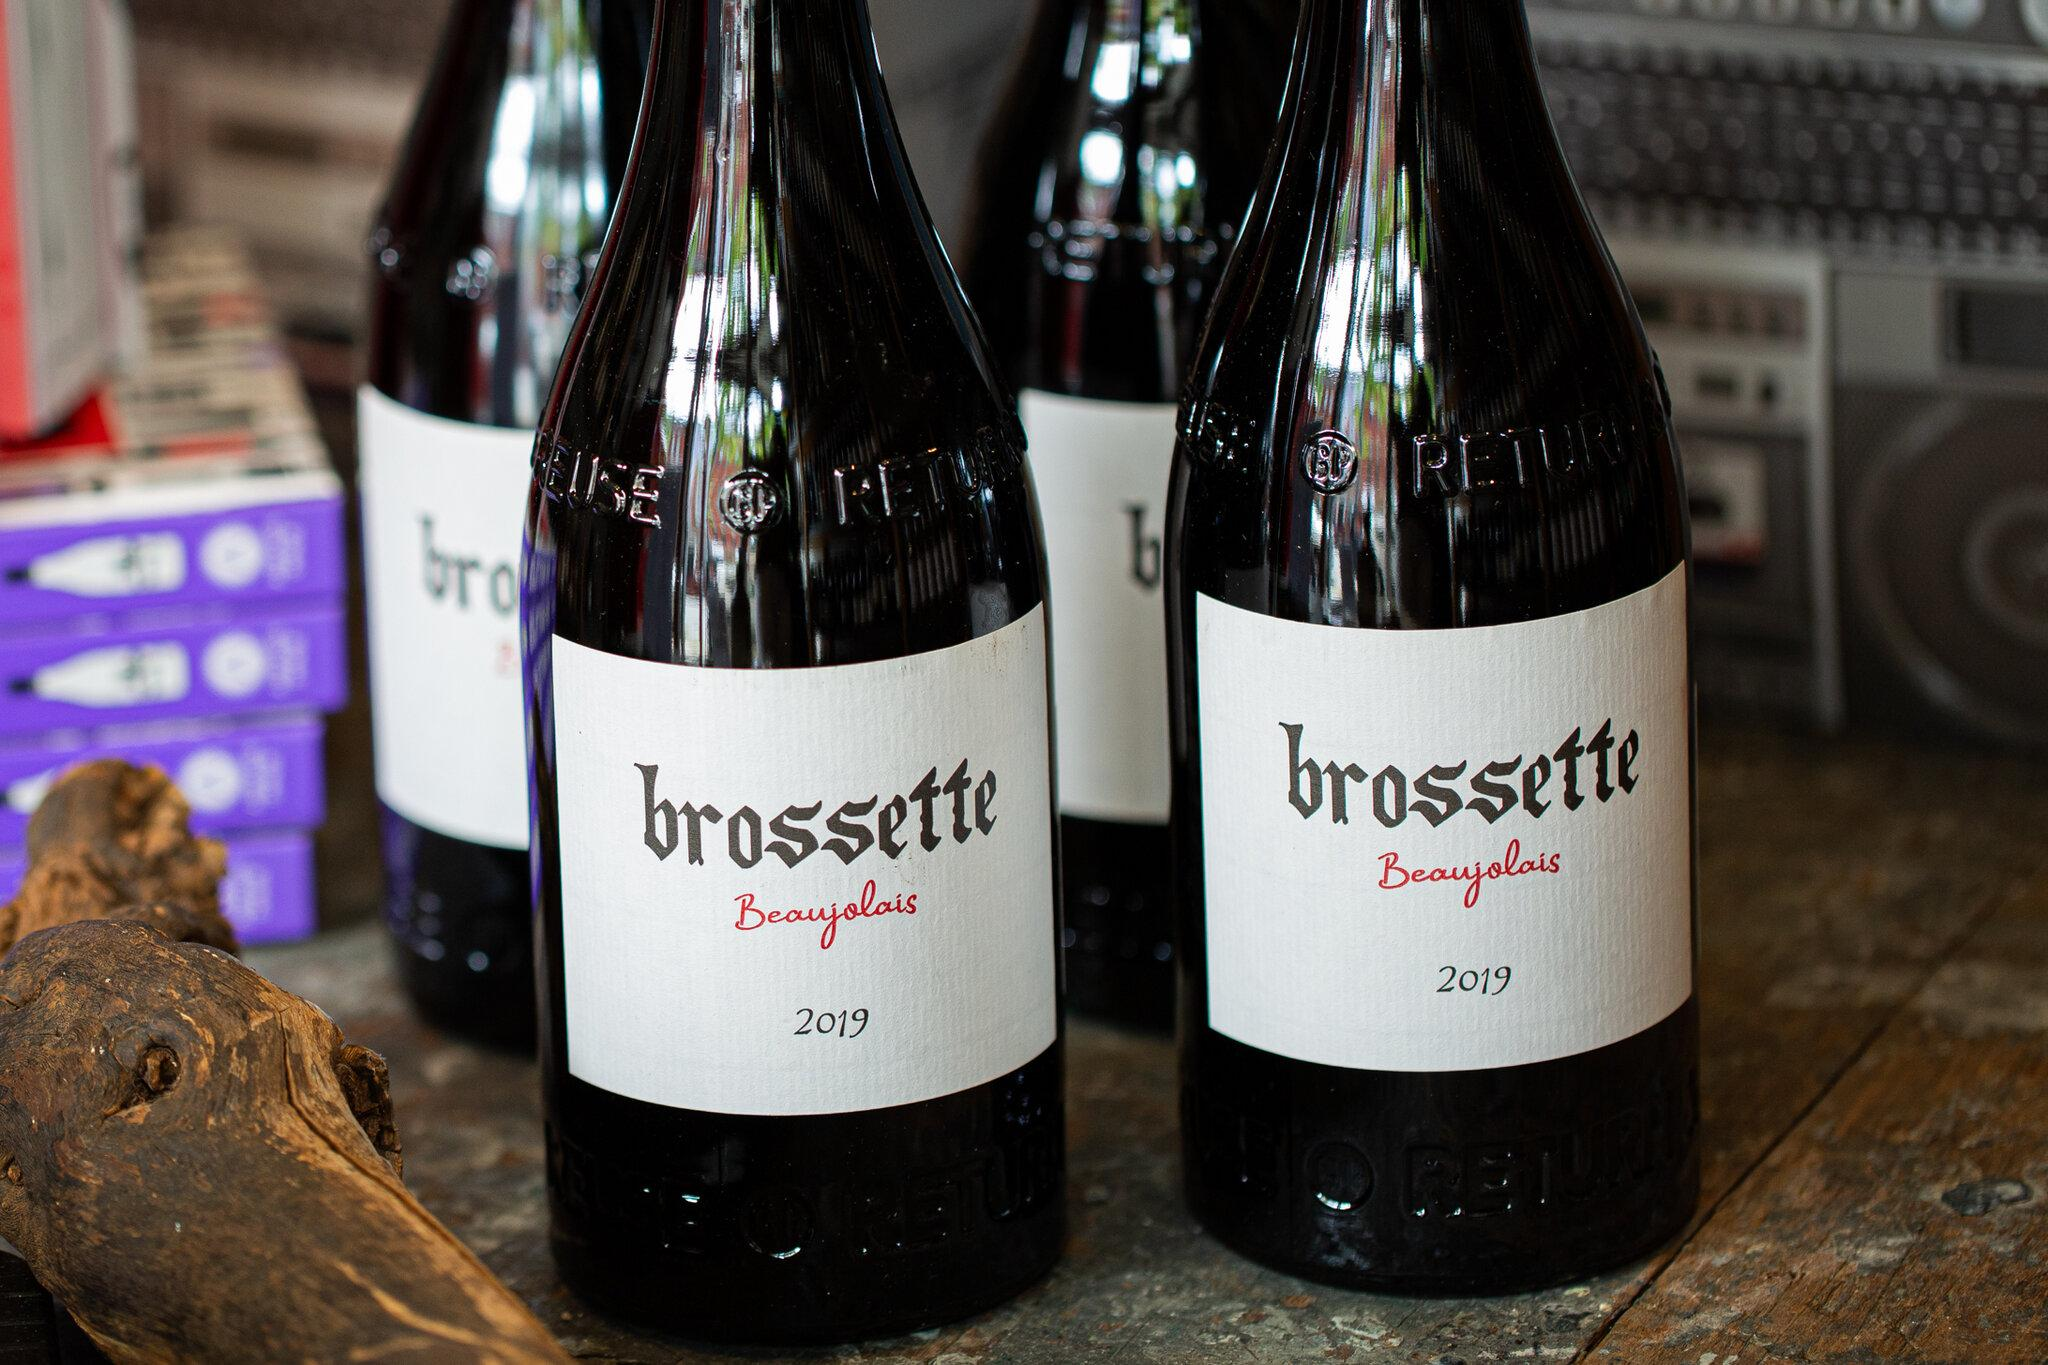glass: (362, 0, 1077, 1336), (994, 0, 1702, 1292)
